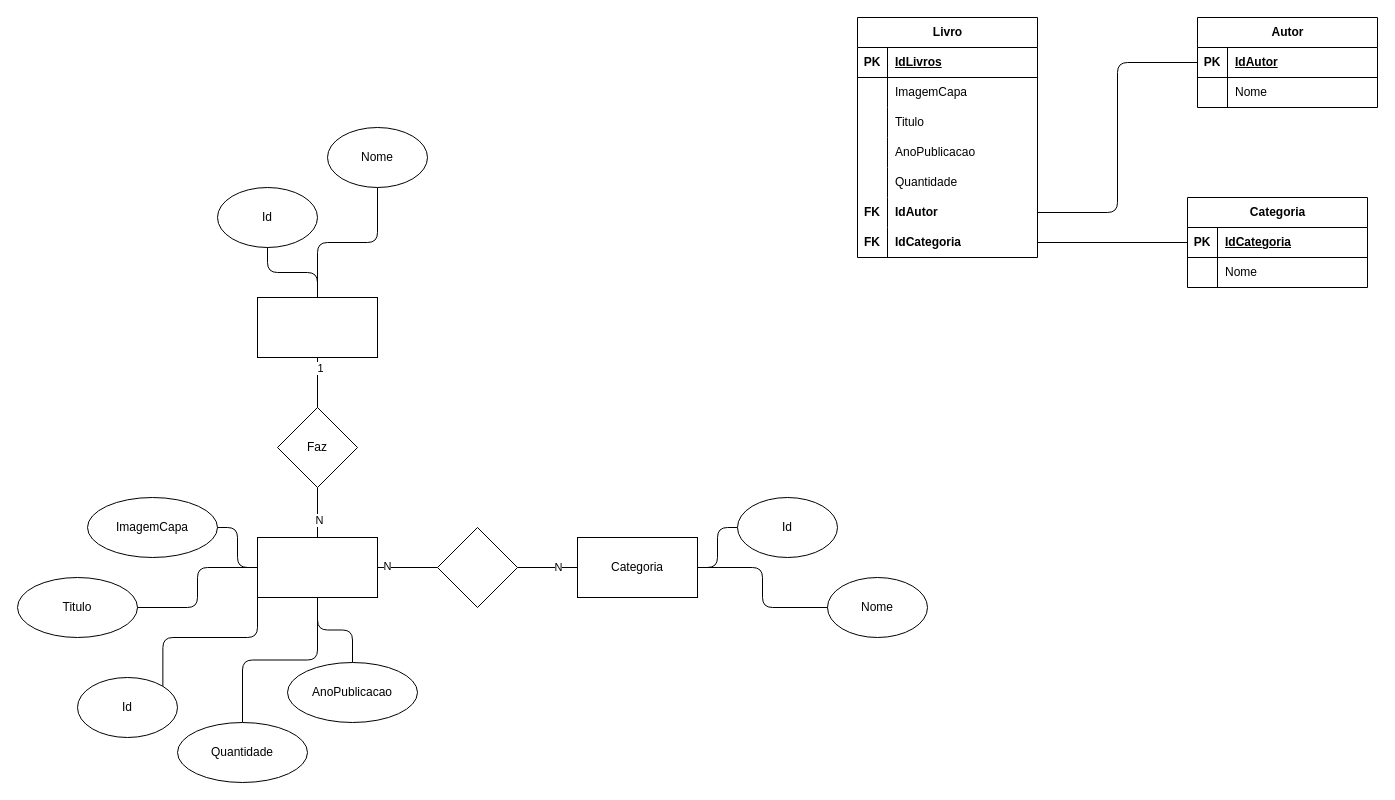
Image size: 1395x800. Some labels were removed from this diagram. The centre of each missing label's shape, as x and y in pixels:
"Autores" goes at point 317,327.
"Livros" goes at point 317,567.
"Tem" goes at point 477,567.
